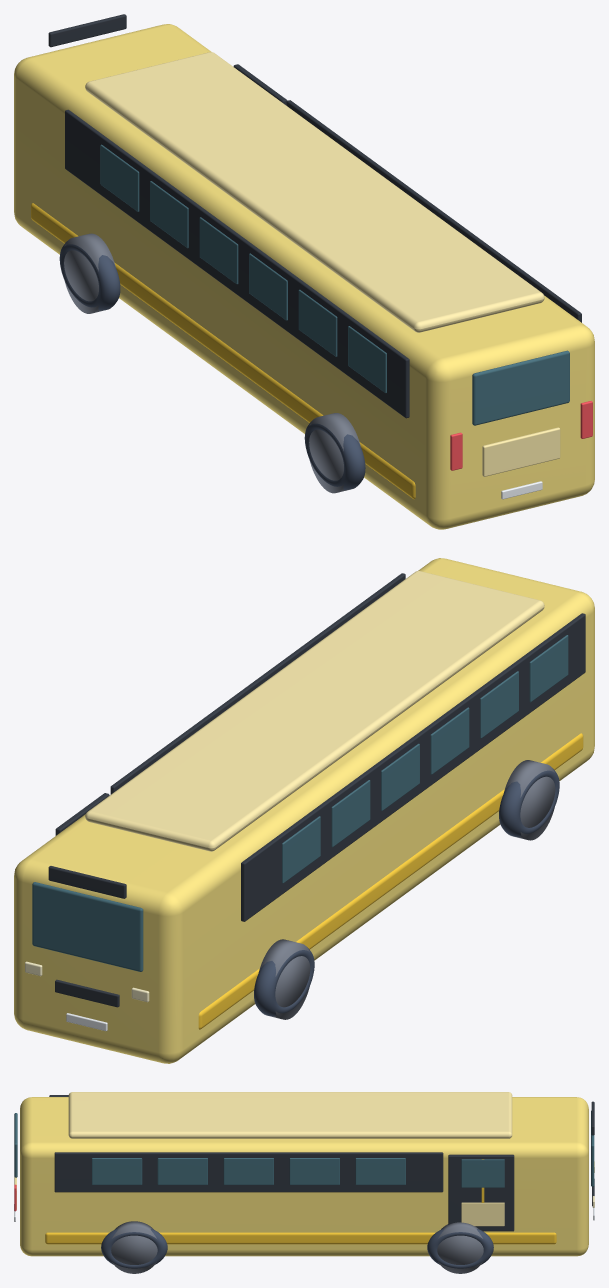
File: shop_large_korean_bus_yellow.fbx
3 renders of one model, top to bottom at view 1: azimuth 30°, elevation 25°; view 2: azimuth 150°, elevation 25°; view 3: azimuth 270°, elevation 25°, orthographic. The views are drawn at different scales.
Visible parts, largest first — view 1: BusPop Live Korean Bus Single Box Body, BusPop Live Korean Bus Roof Soft Highlight, BusPop Live Korean Bus Opposite Side Window Band, BusPop Live Korean Bus Lower Color Belt, BusPop Live Korean Bus Rear Window, BusPop Live Korean Bus Boarding Side Window Band, BusPop Live Korean Bus Rear Hatch, BusPop Live Korean Bus Front Left Wheel Disc, BusPop Live Korean Bus Rear Left Wheel Disc, BusPop Live Korean Bus Opposite Side Window 2, BusPop Live Korean Bus Opposite Side Window 6, BusPop Live Korean Bus Opposite Side Window 4 (+6 smaller); view 2: BusPop Live Korean Bus Single Box Body, BusPop Live Korean Bus Roof Soft Highlight, BusPop Live Korean Bus Opposite Side Window Band, BusPop Live Korean Bus Front Windshield, BusPop Live Korean Bus Lower Color Belt, BusPop Live Korean Bus Boarding Side Window Band, BusPop Live Korean Bus Rear Left Wheel Disc, BusPop Live Korean Bus Front Left Wheel Disc, BusPop Live Korean Bus Opposite Side Window 1, BusPop Live Korean Bus Opposite Side Window 3, BusPop Live Korean Bus Opposite Side Window 5, BusPop Live Korean Bus Front Left Tire (+6 smaller); view 3: BusPop Live Korean Bus Single Box Body, BusPop Live Korean Bus Roof Soft Highlight, BusPop Live Korean Bus Boarding Side Window Band, BusPop Live Korean Bus Lower Color Belt, BusPop Live Korean Bus Boarding Door Frame, BusPop Live Korean Bus Rear Right Wheel Disc, BusPop Live Korean Bus Front Right Wheel Disc, BusPop Live Korean Bus Boarding Side Window 3, BusPop Live Korean Bus Boarding Side Window 4, BusPop Live Korean Bus Boarding Side Window 5, BusPop Live Korean Bus Boarding Side Window 1, BusPop Live Korean Bus Boarding Side Window 2 (+5 smaller).
Part boxes in pixels (x1=…): BusPop Live Korean Bus Single Box Body: x1=14, y1=24, x2=594, y2=529; BusPop Live Korean Bus Roof Soft Highlight: x1=85, y1=52, x2=544, y2=332; BusPop Live Korean Bus Opposite Side Window Band: x1=65, y1=109, x2=409, y2=418; BusPop Live Korean Bus Lower Color Belt: x1=31, y1=203, x2=415, y2=499; BusPop Live Korean Bus Rear Window: x1=472, y1=350, x2=569, y2=425; BusPop Live Korean Bus Boarding Side Window Band: x1=286, y1=100, x2=581, y2=322; BusPop Live Korean Bus Rear Hatch: x1=482, y1=427, x2=560, y2=476; BusPop Live Korean Bus Front Left Wheel Disc: x1=64, y1=233, x2=115, y2=313; BusPop Live Korean Bus Rear Left Wheel Disc: x1=309, y1=413, x2=360, y2=493; BusPop Live Korean Bus Opposite Side Window 2: x1=298, y1=289, x2=337, y2=356; BusPop Live Korean Bus Opposite Side Window 6: x1=100, y1=144, x2=139, y2=211; BusPop Live Korean Bus Opposite Side Window 4: x1=199, y1=217, x2=238, y2=284; BusPop Live Korean Bus Single Box Body: x1=14, y1=558, x2=594, y2=1063; BusPop Live Korean Bus Roof Soft Highlight: x1=85, y1=571, x2=544, y2=851; BusPop Live Korean Bus Opposite Side Window Band: x1=241, y1=613, x2=585, y2=921; BusPop Live Korean Bus Front Windshield: x1=32, y1=882, x2=143, y2=971; BusPop Live Korean Bus Lower Color Belt: x1=198, y1=733, x2=583, y2=1029; BusPop Live Korean Bus Boarding Side Window Band: x1=110, y1=573, x2=405, y2=794; BusPop Live Korean Bus Rear Left Wheel Disc: x1=503, y1=760, x2=555, y2=840; BusPop Live Korean Bus Front Left Wheel Disc: x1=258, y1=939, x2=310, y2=1019; BusPop Live Korean Bus Opposite Side Window 1: x1=529, y1=635, x2=568, y2=702; BusPop Live Korean Bus Opposite Side Window 3: x1=430, y1=707, x2=469, y2=774; BusPop Live Korean Bus Opposite Side Window 5: x1=331, y1=780, x2=370, y2=847; BusPop Live Korean Bus Front Left Tire: x1=254, y1=947, x2=314, y2=1016; BusPop Live Korean Bus Single Box Body: x1=20, y1=1097, x2=588, y2=1256; BusPop Live Korean Bus Roof Soft Highlight: x1=68, y1=1092, x2=512, y2=1138; BusPop Live Korean Bus Boarding Side Window Band: x1=54, y1=1152, x2=443, y2=1192; BusPop Live Korean Bus Lower Color Belt: x1=45, y1=1232, x2=556, y2=1244; BusPop Live Korean Bus Boarding Door Frame: x1=448, y1=1154, x2=514, y2=1231; BusPop Live Korean Bus Rear Right Wheel Disc: x1=111, y1=1221, x2=157, y2=1273; BusPop Live Korean Bus Front Right Wheel Disc: x1=437, y1=1222, x2=483, y2=1273; BusPop Live Korean Bus Boarding Side Window 3: x1=223, y1=1158, x2=273, y2=1184; BusPop Live Korean Bus Boarding Side Window 4: x1=289, y1=1158, x2=339, y2=1184; BusPop Live Korean Bus Boarding Side Window 5: x1=355, y1=1158, x2=405, y2=1184; BusPop Live Korean Bus Boarding Side Window 1: x1=92, y1=1158, x2=142, y2=1184; BusPop Live Korean Bus Boarding Side Window 2: x1=157, y1=1158, x2=207, y2=1184.
Size of the model in its own units: 61.59 by 53.13 by 219.
